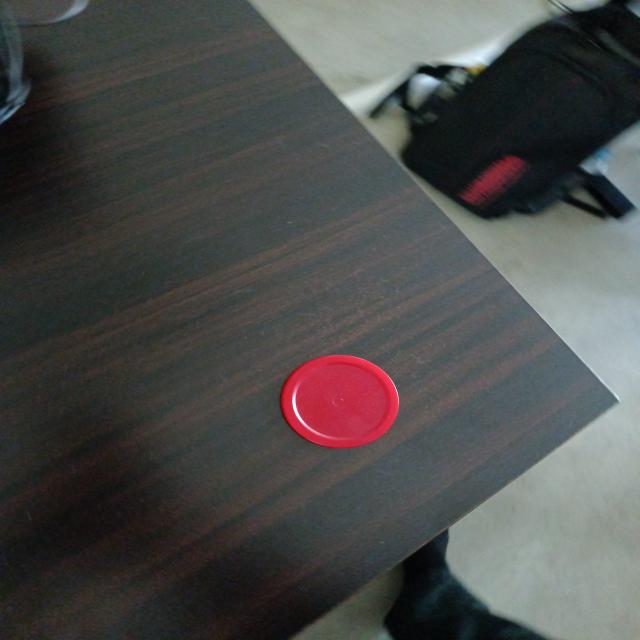chip: (277, 352, 404, 450)
